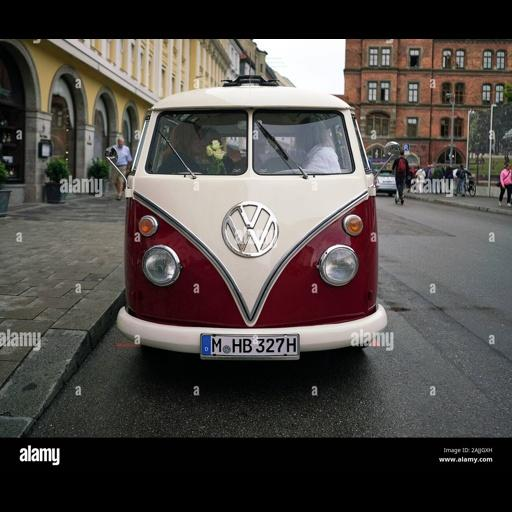car: (374, 169, 396, 195), (108, 147, 114, 163), (393, 143, 396, 147)
van: (117, 74, 386, 358)
